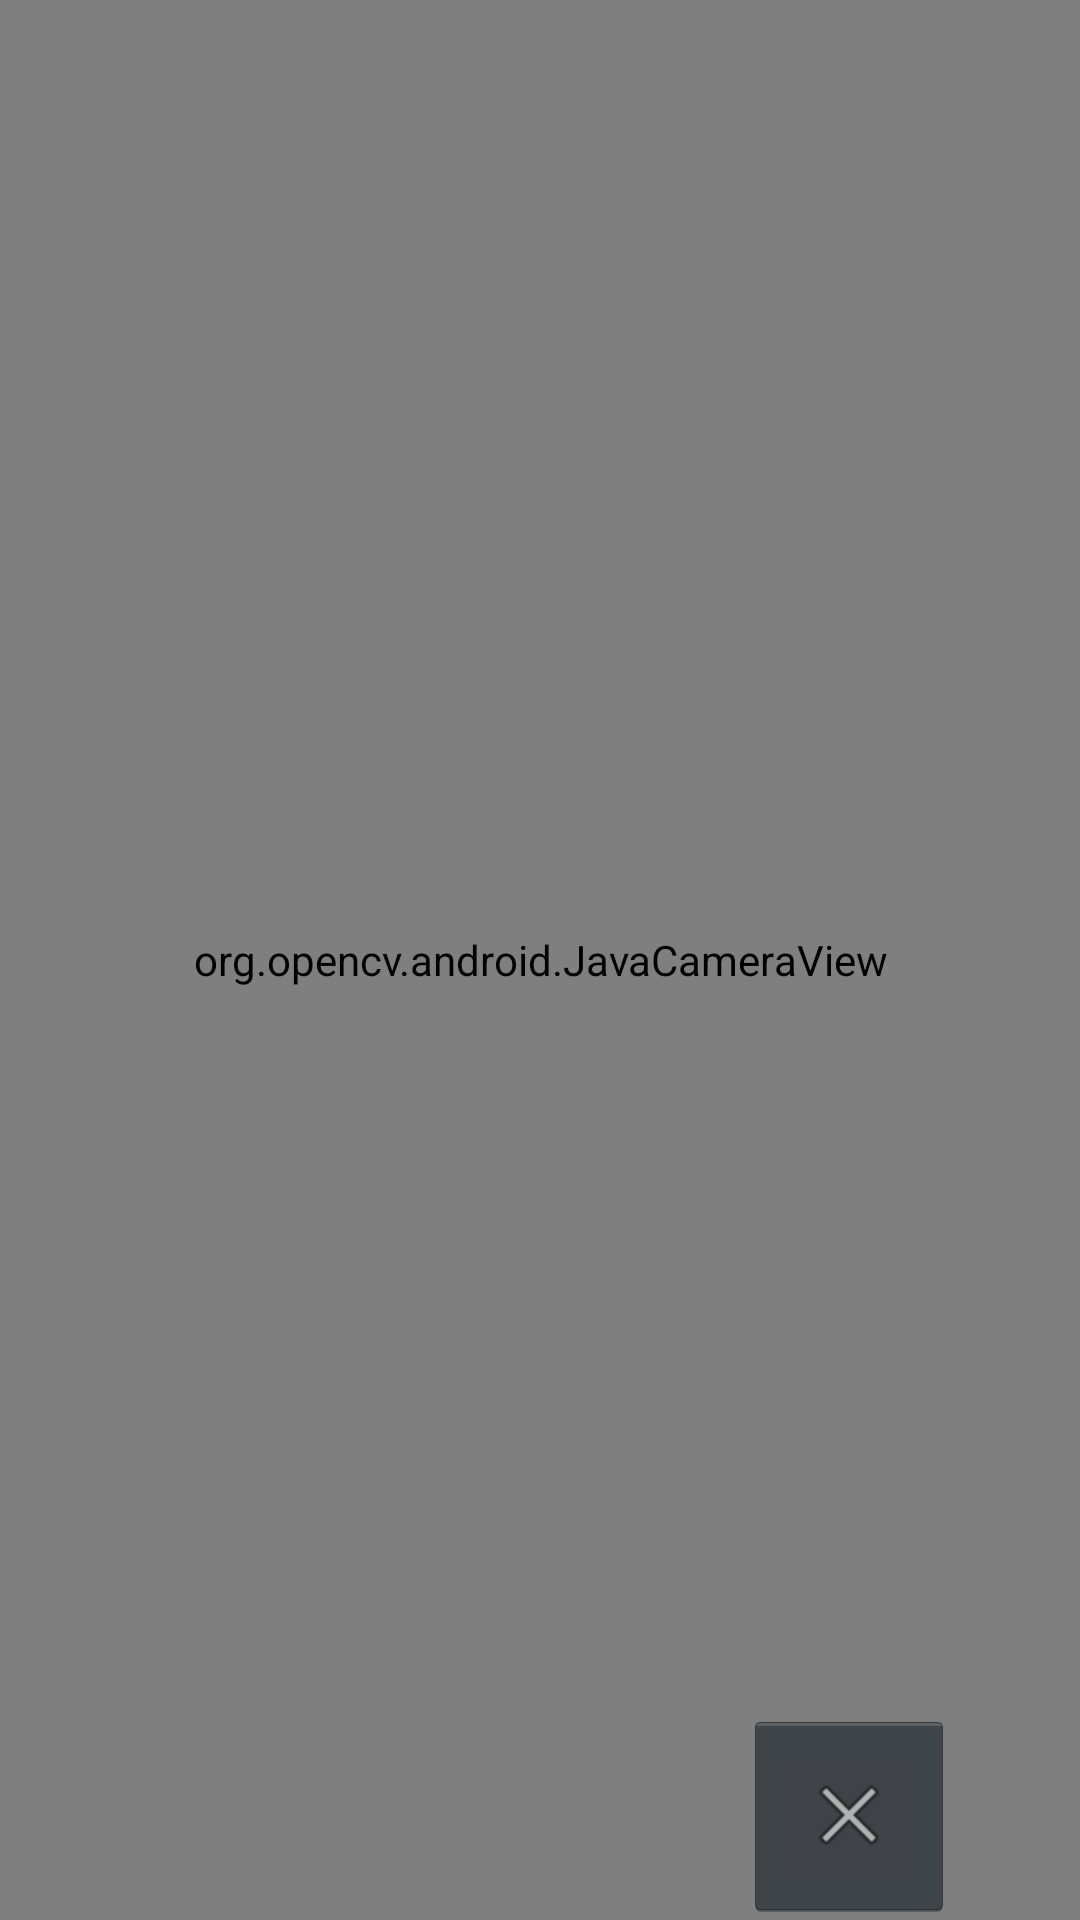

Icon bounding boxes for this 1080×1920 phone screenshot, format (x1, y1, x2, y2):
close clear cancel: (755, 1722, 943, 1912)
